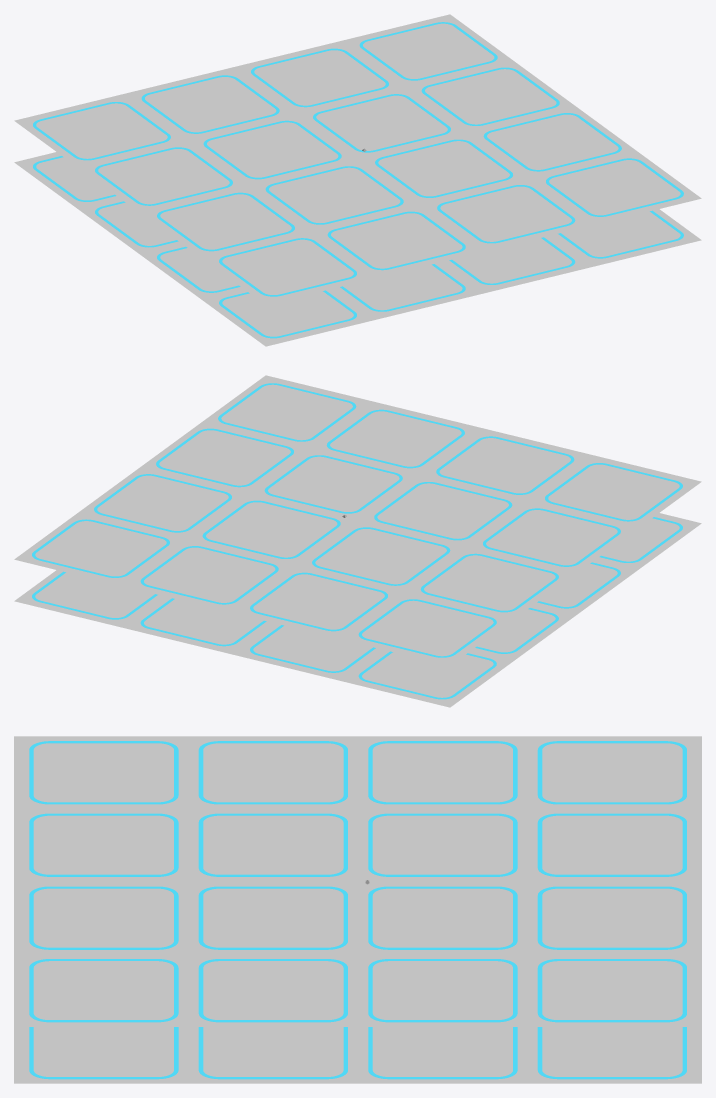
File: boxed-plane.gltf
The picture shows the model from 3 angles, top to bottom: view 1: azimuth 30°, elevation 25°; view 2: azimuth 150°, elevation 25°; view 3: azimuth 270°, elevation 25°; orthographic projection. The views are drawn at different scales.
Parts seen in each view (by area): view 1: Plane, Plane.017, Plane.006, Plane.003, Plane.007, Plane.008, Plane.015, Plane.014, Plane.004, Plane.002, Plane.001, Plane.012 (+7 smaller); view 2: Plane, Plane.017, Plane.001, Plane.012, Plane.006, Plane.009, Plane.004, Plane.013, Plane.015, Plane.005, Plane.002, Plane.003 (+7 smaller); view 3: Plane, Plane.017, Plane.004, Plane.011, Plane.008, Plane.005, Plane.015, Plane.009, Plane.001, Plane.002, Plane.003, Plane.007 (+10 smaller).
Boxes of the visible parts, left/top/right/bottom form: Plane: left=14, top=14, right=701, bottom=304; Plane.017: left=14, top=152, right=701, bottom=346; Plane.006: left=95, top=147, right=232, bottom=205; Plane.003: left=327, top=211, right=465, bottom=270; Plane.007: left=203, top=120, right=341, bottom=179; Plane.008: left=33, top=102, right=170, bottom=160; Plane.015: left=251, top=48, right=388, bottom=107; Plane.014: left=421, top=67, right=559, bottom=125; Plane.004: left=157, top=192, right=294, bottom=251; Plane.002: left=219, top=238, right=356, bottom=296; Plane.001: left=437, top=185, right=575, bottom=243; Plane.012: left=483, top=113, right=621, bottom=171; Plane: left=14, top=375, right=701, bottom=665; Plane.017: left=14, top=513, right=701, bottom=707; Plane.001: left=326, top=409, right=464, bottom=468; Plane.012: left=156, top=428, right=293, bottom=487; Plane.006: left=420, top=553, right=558, bottom=612; Plane.009: left=250, top=572, right=387, bottom=631; Plane.004: left=483, top=508, right=620, bottom=566; Plane.013: left=202, top=500, right=340, bottom=558; Plane.015: left=140, top=546, right=278, bottom=604; Plane.005: left=374, top=482, right=512, bottom=540; Plane.002: left=545, top=463, right=682, bottom=521; Plane.003: left=436, top=436, right=574, bottom=494; Plane: left=14, top=736, right=701, bottom=1026; Plane.017: left=14, top=1027, right=701, bottom=1083; Plane.004: left=198, top=741, right=347, bottom=804; Plane.011: left=198, top=886, right=347, bottom=949; Plane.008: left=537, top=741, right=686, bottom=804; Plane.005: left=198, top=813, right=347, bottom=876; Plane.015: left=537, top=886, right=686, bottom=949; Plane.009: left=537, top=813, right=686, bottom=876; Plane.001: left=29, top=886, right=178, bottom=949; Plane.002: left=29, top=741, right=178, bottom=804; Plane.003: left=29, top=813, right=178, bottom=876; Plane.007: left=368, top=813, right=517, bottom=876.
Size of the model in its own units: 301 by 31.63 by 301.
